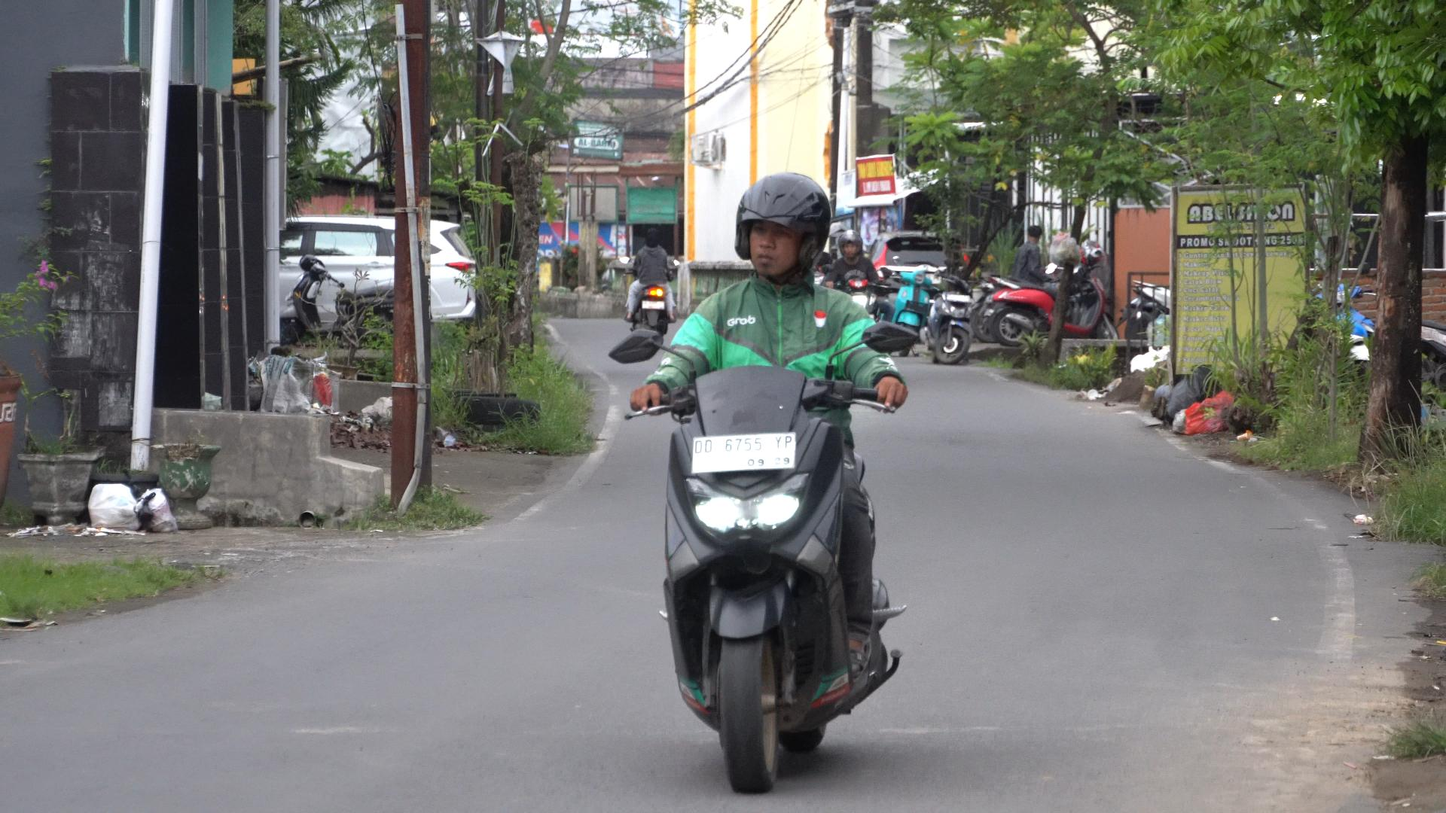number-plate: (688, 429, 796, 476)
